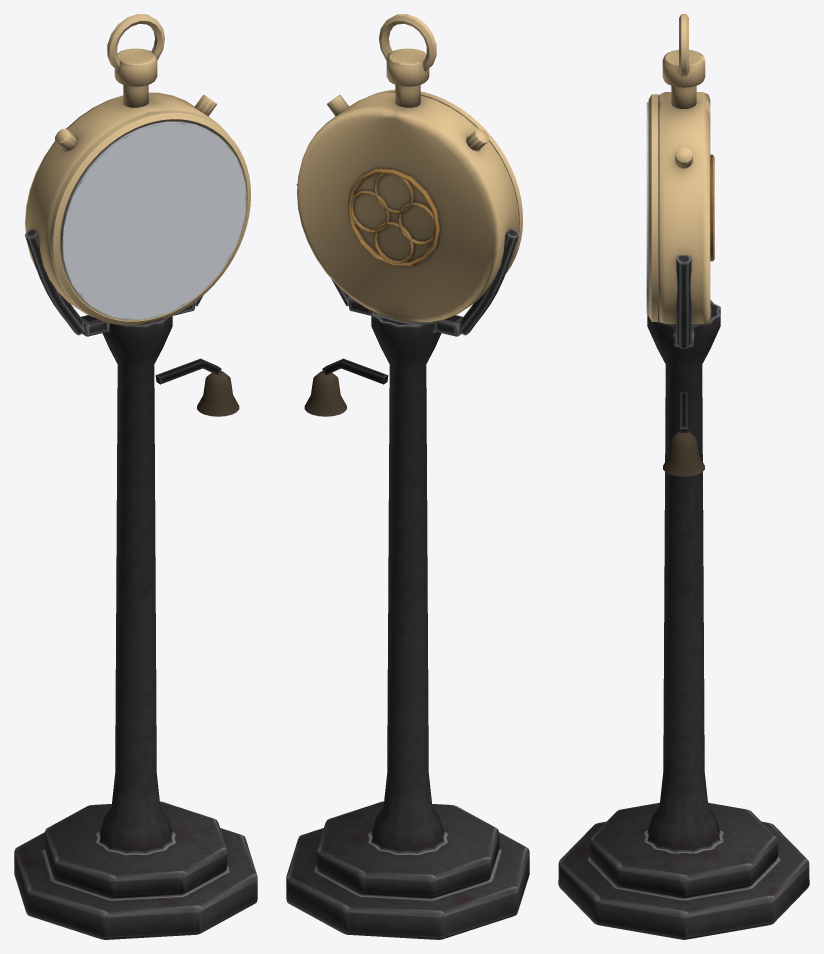
Rendered from StopwatchStand.fbx.
3 views of the same model, side by side, from view 1: azimuth 30°, elevation 25°; view 2: azimuth 150°, elevation 25°; view 3: azimuth 270°, elevation 25° (orthographic).
Parts seen in each view (by area): view 1: StopwatchStand_Main, StopwatchStand_Glass; view 2: StopwatchStand_Main; view 3: StopwatchStand_Main, StopwatchStand_Glass.
Part boxes in pixels (x1,y1,x2,y2): StopwatchStand_Main: [14, 14, 257, 939]; StopwatchStand_Glass: [61, 121, 246, 319]; StopwatchStand_Main: [286, 14, 529, 939]; StopwatchStand_Main: [558, 14, 809, 939]; StopwatchStand_Glass: [646, 102, 648, 313].
Size of the model in its own units: 200 by 762 by 199.
